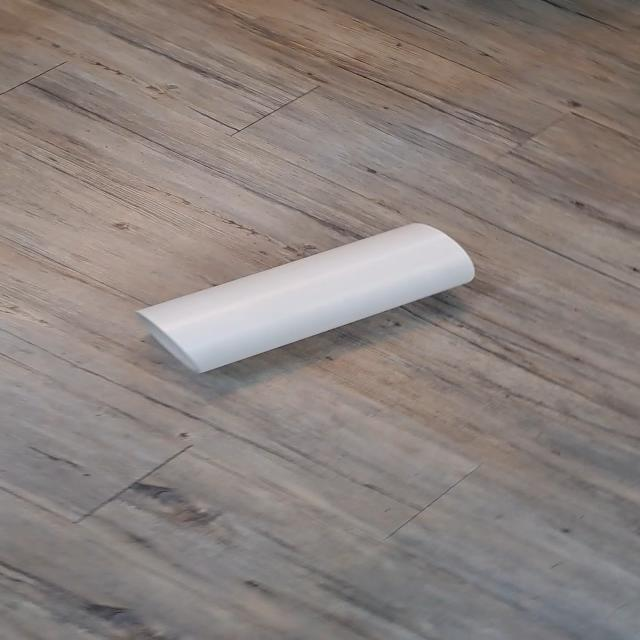CORAL: (135, 224, 476, 376)
